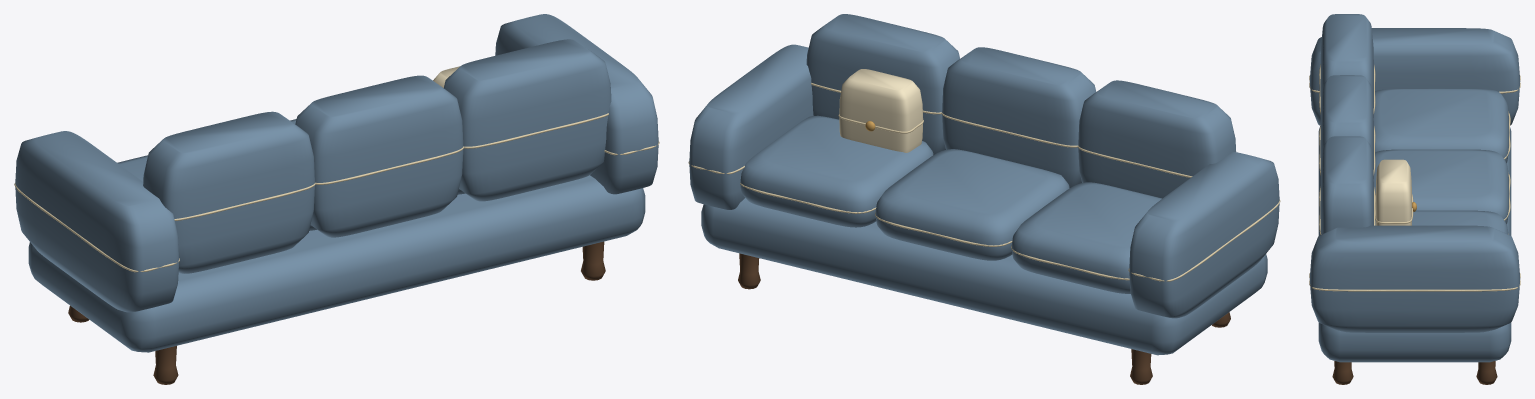
Rendered from sofa.glb.
3 renders of one model, left to right at view 1: azimuth 30°, elevation 25°; view 2: azimuth 150°, elevation 25°; view 3: azimuth 270°, elevation 25°, orthographic. The views are drawn at different scales.
Parts seen in each view (by area): view 1: House_sofa; view 2: House_sofa; view 3: House_sofa.
Boxes of the visible parts, x1=… form: House_sofa: x1=14, y1=14, x2=659, y2=384; House_sofa: x1=688, y1=14, x2=1280, y2=384; House_sofa: x1=1309, y1=14, x2=1520, y2=384.
Size of the model in its own units: 2.47 by 1.01 by 1.
